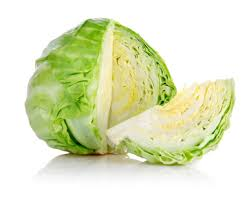cabbage: (26, 26, 170, 163)
